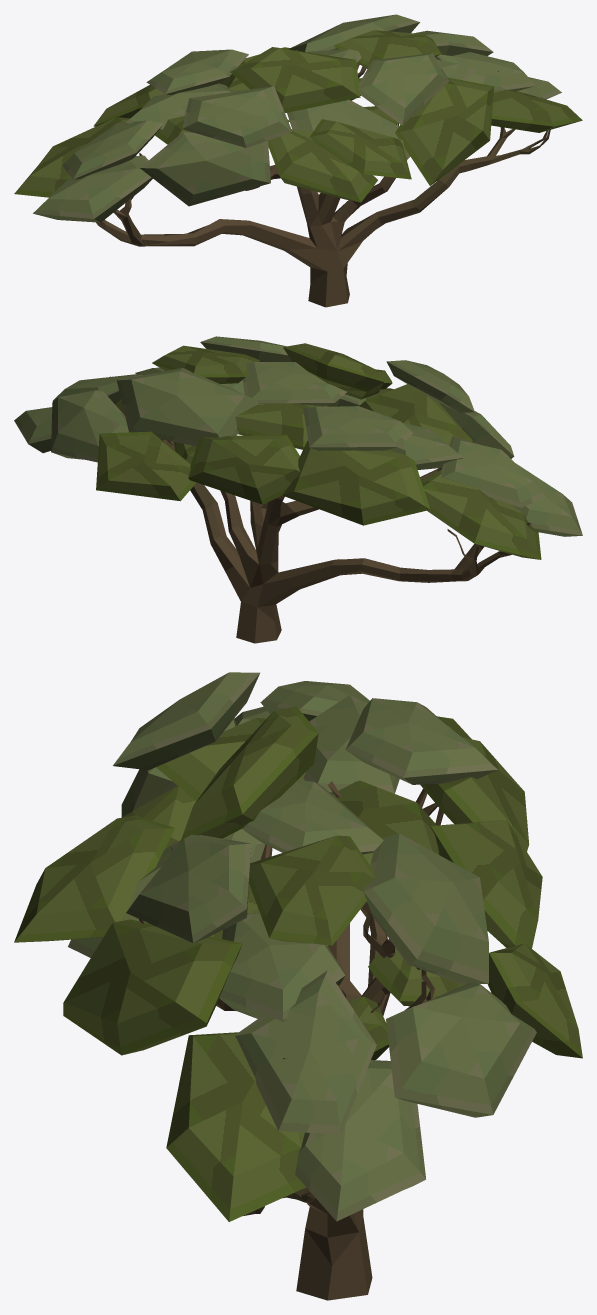
Rendered from LPTree_Stylized_02.glb.
3 views of the same model, one above another, from view 1: azimuth 30°, elevation 25°; view 2: azimuth 150°, elevation 25°; view 3: azimuth 270°, elevation 25° (orthographic). The views are drawn at different scales.
Visible parts, largest first — view 1: Tree Type0 04 Model; view 2: Tree Type0 04 Model; view 3: Tree Type0 04 Model.
Boxes of the visible parts, box(x1,y1,x2,y2) form: Tree Type0 04 Model: box(14, 14, 582, 307); Tree Type0 04 Model: box(14, 336, 582, 643); Tree Type0 04 Model: box(14, 672, 582, 1300).
Size of the model in its own units: 7.72 by 3.76 by 3.85.
Materials: 1 (1 with a texture image).
